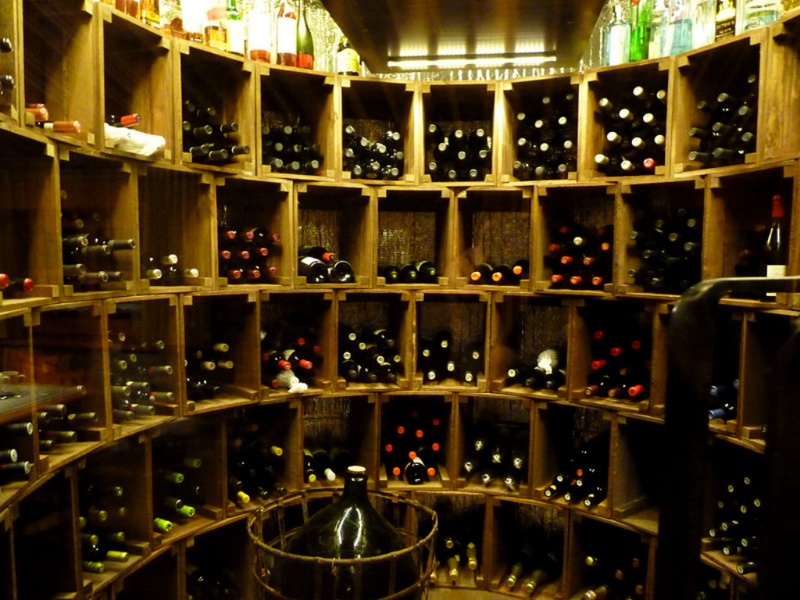wine: (1, 1, 799, 598)
